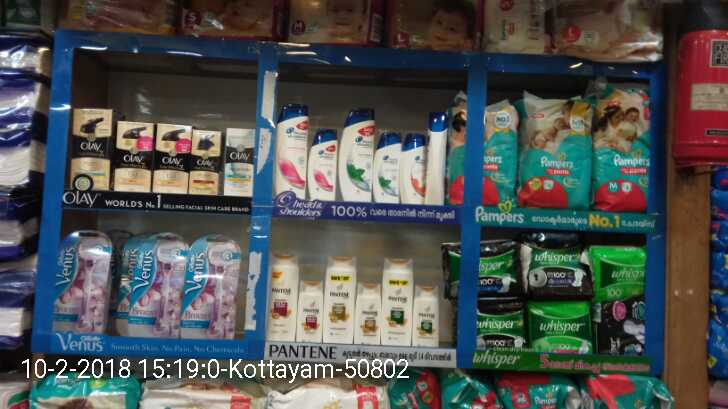venus: (50, 236, 116, 331), (183, 235, 237, 336), (130, 234, 183, 336)
